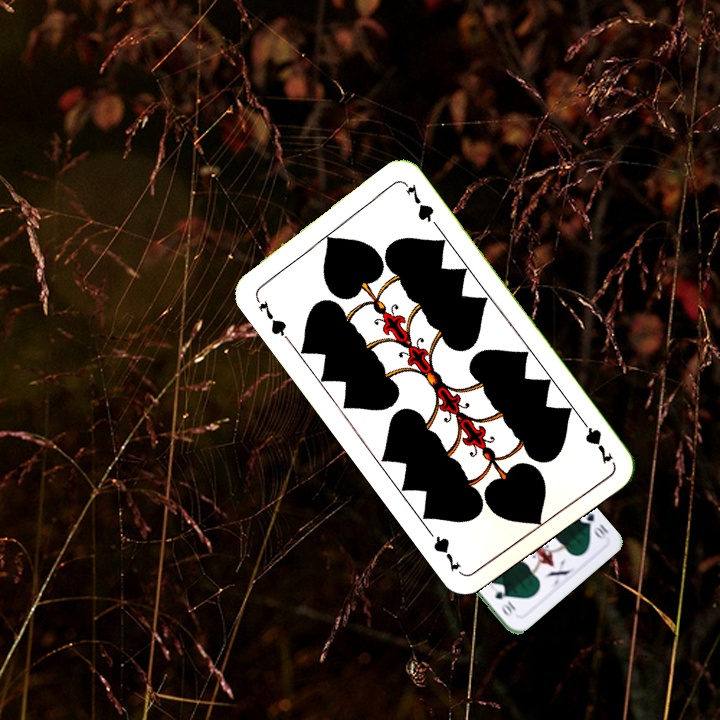G10: (575, 506, 611, 541)
G7: (575, 413, 616, 467), (251, 292, 292, 343)
